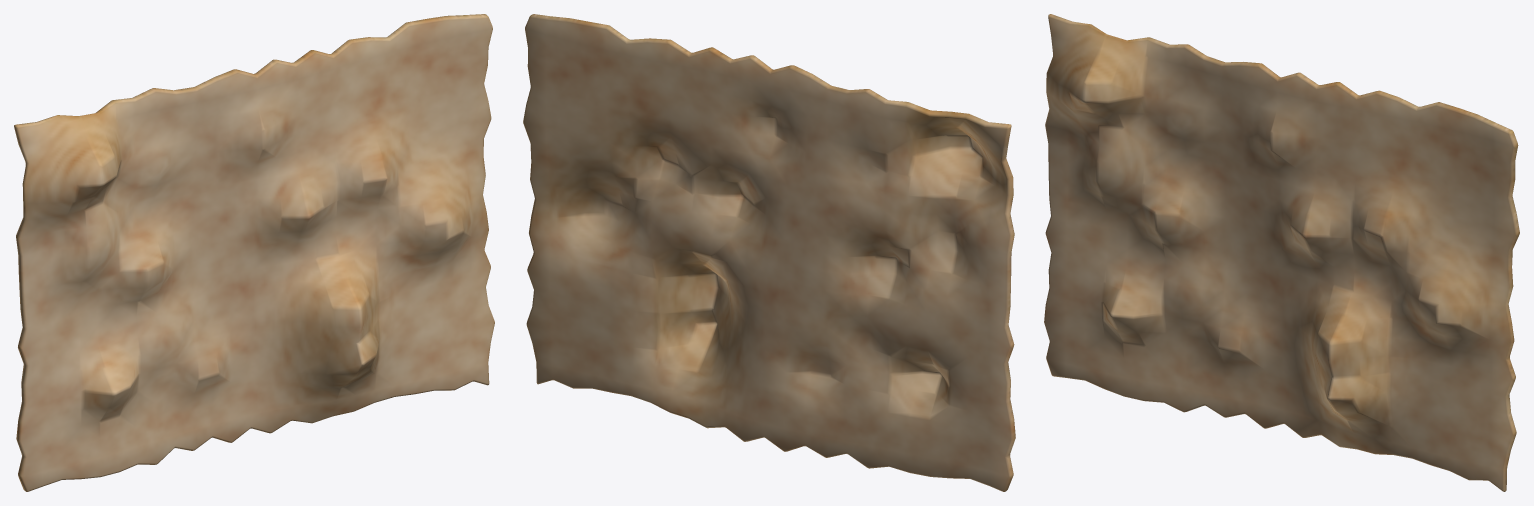
File: crisp.4e3f1a1dc2b9.glb
3 renders of one model, left to right at view 1: azimuth 30°, elevation 25°; view 2: azimuth 150°, elevation 25°; view 3: azimuth 330°, elevation 25°, orthographic. The views are drawn at different scales.
Parts seen in each view (by area): view 1: Thin blistered baocui sheet 1; view 2: Thin blistered baocui sheet 1; view 3: Thin blistered baocui sheet 1.
Part boxes in pixels (box(x1,y1,x2,y2)): Thin blistered baocui sheet 1: box(14, 14, 494, 491); Thin blistered baocui sheet 1: box(523, 14, 1015, 491); Thin blistered baocui sheet 1: box(1044, 14, 1519, 491).
Size of the model in its own units: 1.42 by 1.07 by 0.1899.
1 material, 1 textured.
